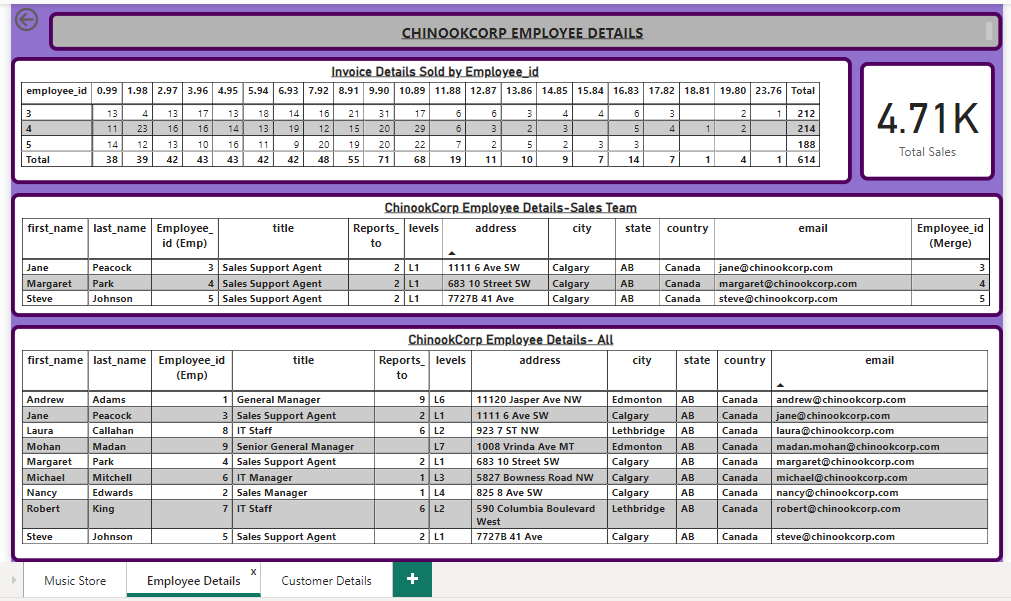

The dashboard page shown, as its layout file describes it:
{"tool":"powerbi","page":{"name":"Employee Details","canvas":[1280,720],"ordinal":1},"visuals":[{"type":"tableEx","title":"ChinookCorp Employee Details-Sales Team","fields":{"Values":["employee.first_name","employee.last_name","Sum(employee.employee_id)","employee.title","Sum(employee.reports_to)","employee.levels","employee.address","employee.city","employee.state","employee.country","employee.email","Merge customers to playlist,album,artist,media_type,genre.employee_id"]},"box":[0,243.8,1279.8,160.2],"z":0},{"type":"actionButton","box":[0,0,100,40],"z":1000},{"type":"textbox","box":[49.6,9.9,1230.2,49.6],"z":2000},{"type":"pivotTable","title":"Invoice Details Sold by Employee_id","fields":{"Values":["CountNonNull(Merge customers to playlist,album,artist,media_type,genre.total)"],"Rows":["Merge customers to playlist,album,artist,media_type,genre.employee_id"],"Columns":["Merge customers to playlist,album,artist,media_type,genre.total"]},"box":[0,68.8,1084.6,163.8],"z":3000},{"type":"tableEx","title":"ChinookCorp Employee Details- All","fields":{"Values":["employee.first_name","employee.last_name","Sum(employee.employee_id)","employee.title","Sum(employee.reports_to)","employee.levels","employee.address","employee.city","employee.state","employee.country","employee.email"]},"box":[0,413.9,1279.8,306.1],"z":4000},{"type":"card","fields":{"Values":["Sum(Merge customers to playlist,album,artist,media_type,genre.total)"]},"box":[1095.6,75.1,174.3,153.1],"z":5000}]}

Visuals, with their boxes in screenshot pixels (x1, y1, x2, y2):
"ChinookCorp Employee Details-Sales Team" tableEx: [left=8, top=185, right=1005, bottom=309]
actionButton: [left=8, top=0, right=86, bottom=26]
textbox: [left=47, top=2, right=1005, bottom=41]
"Invoice Details Sold by Employee_id" pivotTable: [left=8, top=48, right=853, bottom=176]
"ChinookCorp Employee Details- All" tableEx: [left=8, top=317, right=1005, bottom=556]
card - Sum(Merge customers to playlist,album,artist,media_type,genre.total): [left=861, top=53, right=997, bottom=172]
